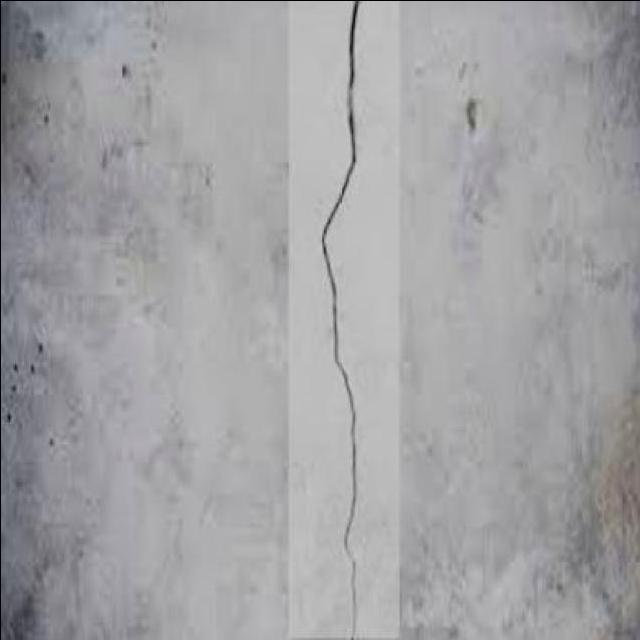SurfaceCrack: (286, 0, 406, 632)
